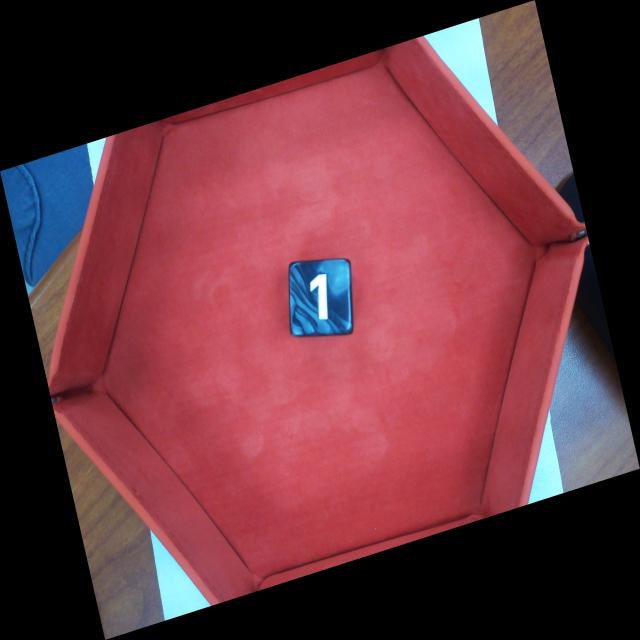dice: (286, 256, 356, 339)
